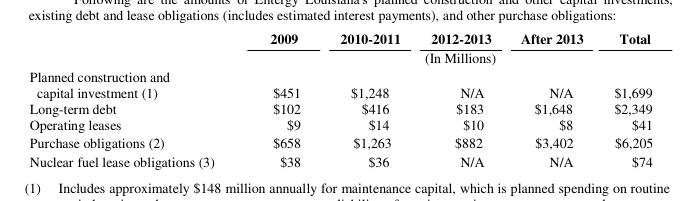table: (28, 28, 652, 169)
table column: (28, 28, 241, 169), (319, 28, 415, 169), (505, 28, 598, 169), (415, 28, 505, 169), (241, 28, 319, 169), (598, 28, 652, 169)
table column header: (28, 28, 652, 66)
table projected row header: (28, 66, 652, 83)
table row: (28, 28, 652, 47), (28, 47, 652, 66), (28, 132, 652, 151), (28, 151, 652, 169), (28, 66, 652, 83), (28, 115, 652, 132), (28, 83, 652, 99), (28, 99, 652, 115)
table spanning cell: (241, 47, 652, 66)
